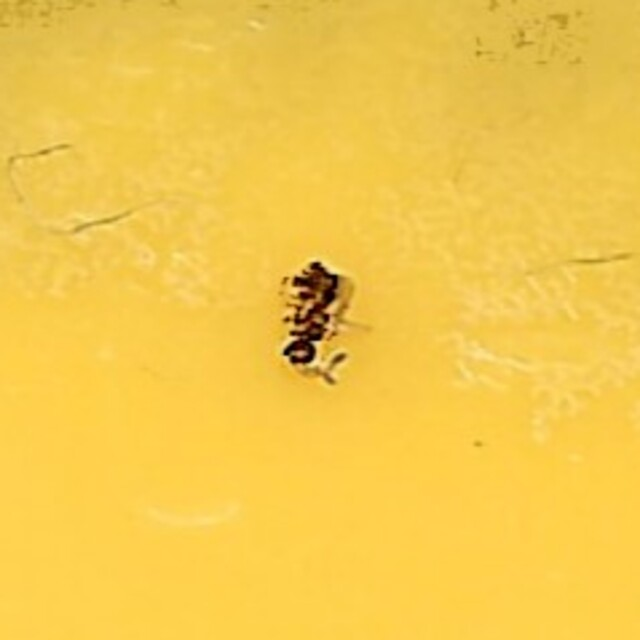Hymenoptera: (268, 245, 372, 395)
